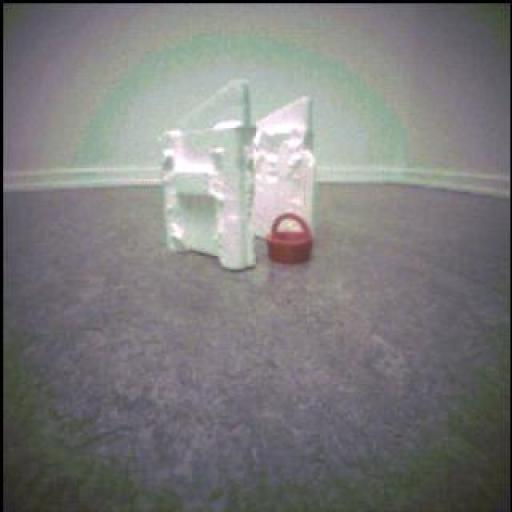Bucket: (268, 214, 313, 265)
